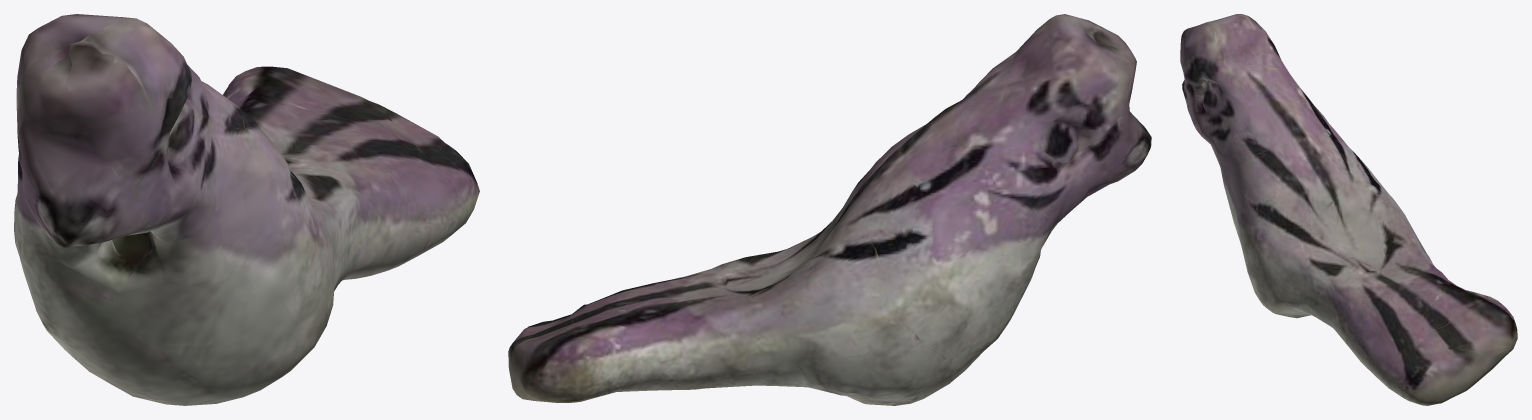
File: hall.glb
3 renders of one model, left to right at view 1: azimuth 30°, elevation 25°; view 2: azimuth 150°, elevation 25°; view 3: azimuth 270°, elevation 25°, orthographic. The views are drawn at different scales.
Bounding box in the file's own units: 0.5617 × 0.4055 × 0.4912.
Materials: 1 (1 with a texture image).
